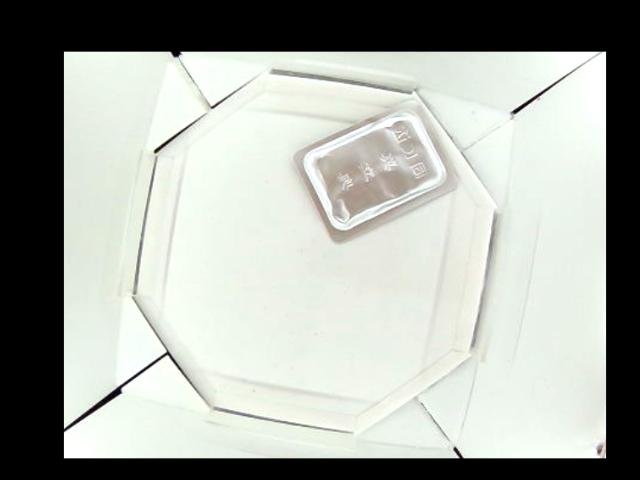Medicine: (295, 98, 456, 243)
